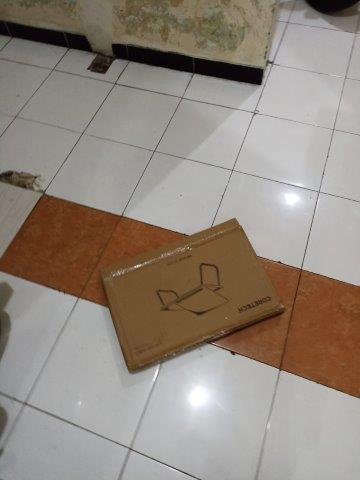kardus: (102, 219, 283, 372)
